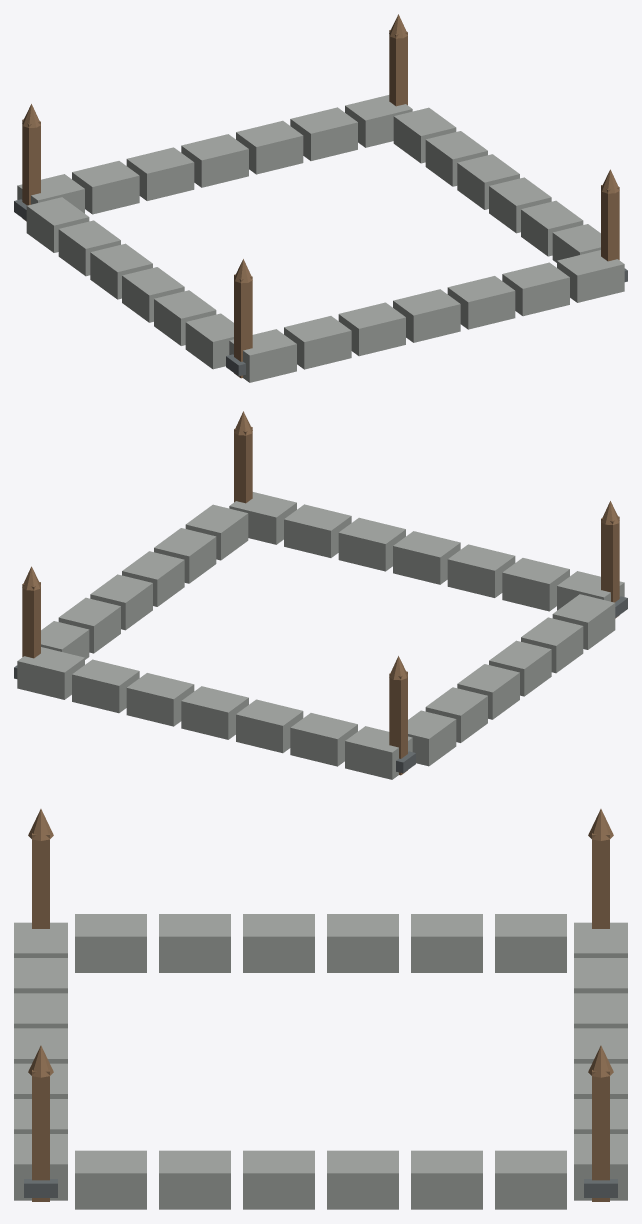
The model's file is vf_forage_bed.glb.
3 renders of one model, top to bottom at view 1: azimuth 30°, elevation 25°; view 2: azimuth 150°, elevation 25°; view 3: azimuth 270°, elevation 25°, orthographic. The views are drawn at different scales.
Visible parts, largest first — view 1: Static_Stone, Static_Oak, Static_Iron; view 2: Static_Stone, Static_Oak, Static_Iron; view 3: Static_Stone, Static_Oak, Static_Iron.
Boxes of the visible parts, bbox=[...] form: Static_Stone: bbox=[17, 95, 624, 382]; Static_Oak: bbox=[22, 14, 619, 378]; Static_Iron: bbox=[14, 199, 627, 376]; Static_Stone: bbox=[17, 492, 624, 779]; Static_Oak: bbox=[22, 411, 619, 775]; Static_Iron: bbox=[14, 596, 627, 773]; Static_Stone: bbox=[14, 914, 627, 1209]; Static_Oak: bbox=[28, 809, 613, 1201]; Static_Iron: bbox=[24, 1179, 617, 1197].
Size of the model in its own units: 3.07 by 0.845 by 3.07.
